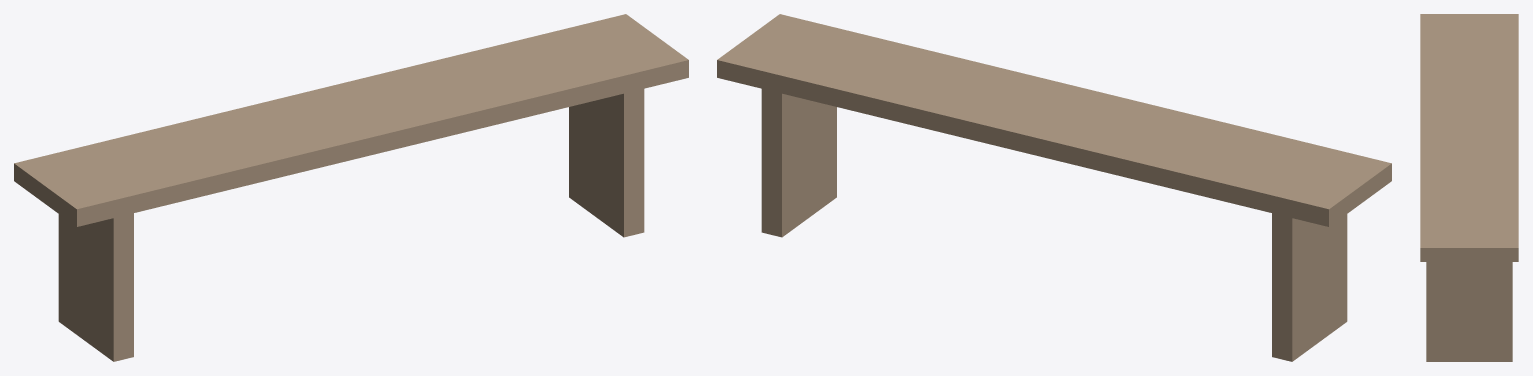
The model's file is bench.glb.
The picture shows the model from 3 angles, left to right: view 1: azimuth 30°, elevation 25°; view 2: azimuth 150°, elevation 25°; view 3: azimuth 270°, elevation 25°; orthographic projection. The views are drawn at different scales.
Parts seen in each view (by area): view 1: bench; view 2: bench; view 3: bench.
Part boxes in pixels (box(x1,y1,x2,y2)): bench: box(14, 14, 688, 361); bench: box(717, 14, 1391, 361); bench: box(1420, 14, 1518, 361).
Bounding box in the file's own units: 1.8 × 0.465 × 0.32.
